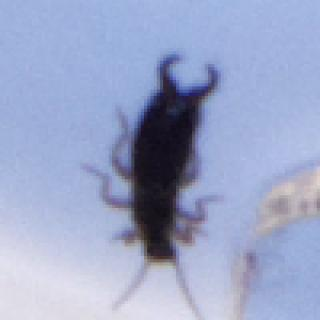earwig: (77, 49, 226, 320)
